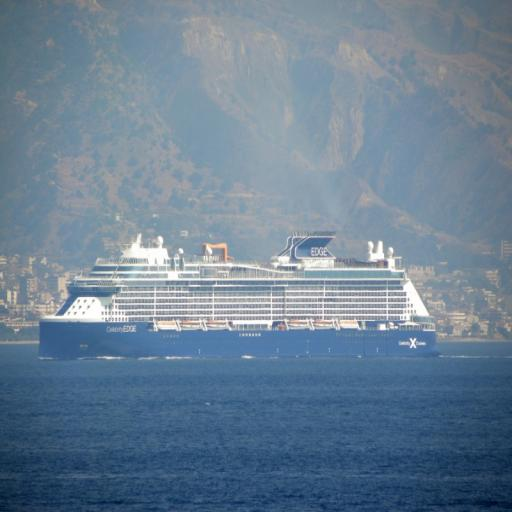cruises: (42, 223, 449, 364)
